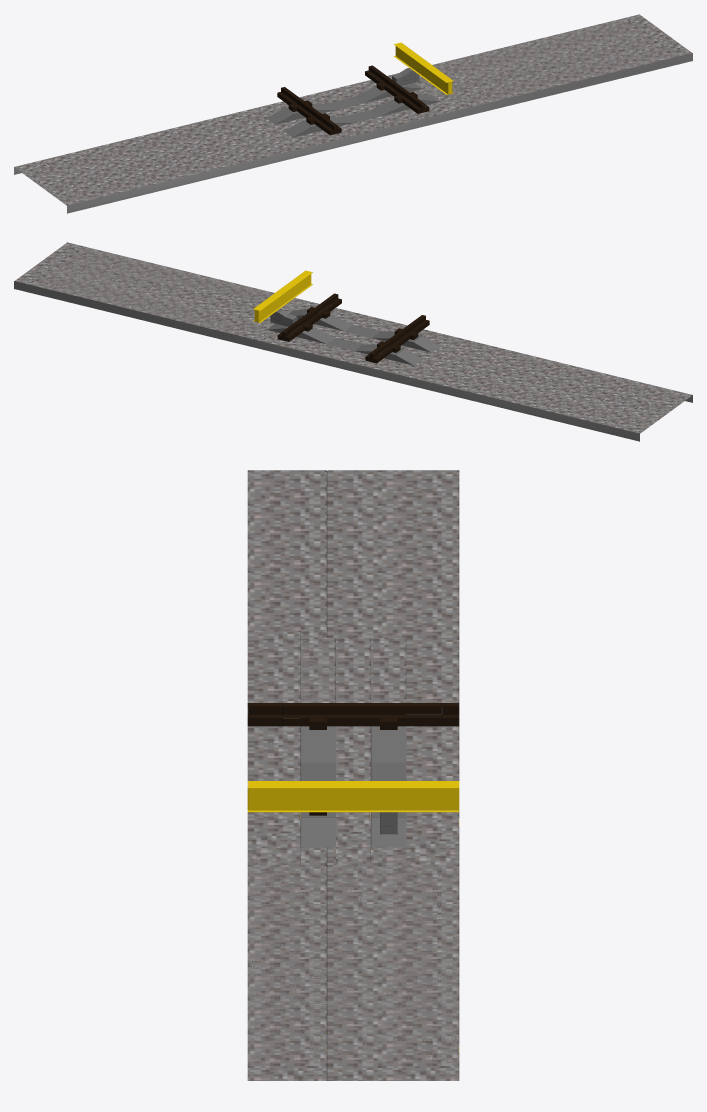
File: athen-metro-rail-4.obj
3 views of the same model, one above another, from view 1: azimuth 30°, elevation 25°; view 2: azimuth 150°, elevation 25°; view 3: azimuth 270°, elevation 25° (orthographic). The views are drawn at different scales.
Visible parts, largest first — view 1: cube; view 2: cube; view 3: cube.
Boxes of the visible parts, box(x1,y1,x2,y2) form: cube: box(14, 14, 692, 213); cube: box(14, 242, 692, 441); cube: box(247, 470, 459, 1080).
Size of the model in its own units: 10.25 by 0.7038 by 1.5.
2 materials, 2 textured.
